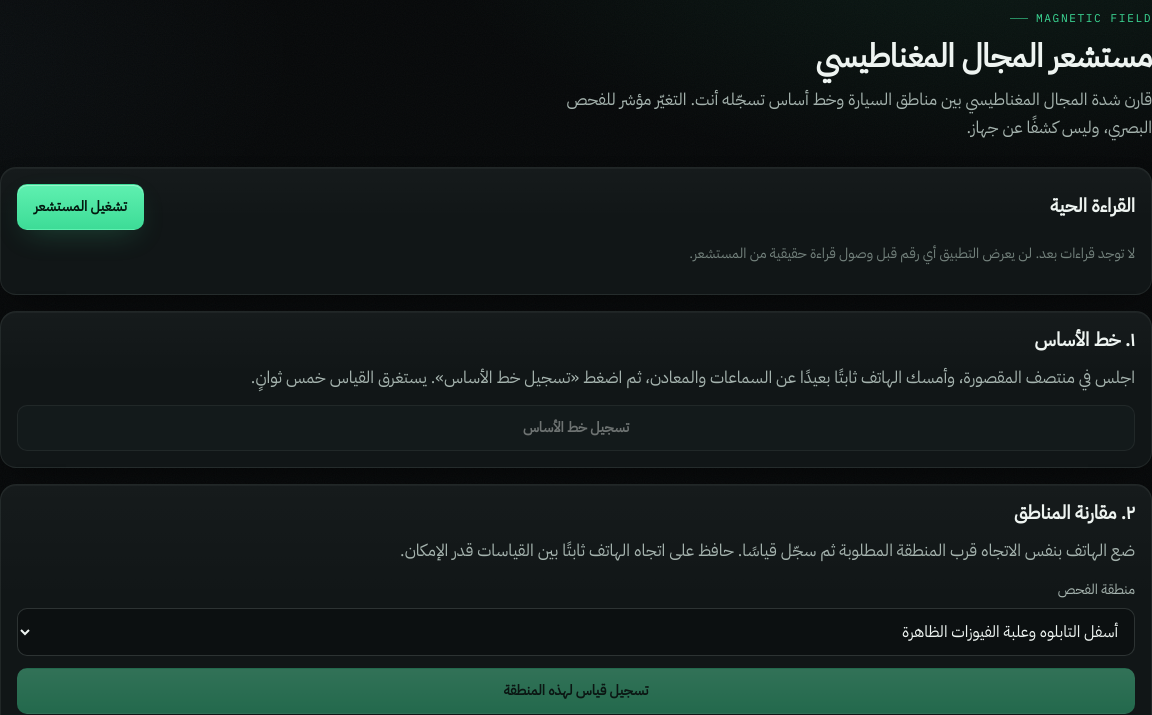
SensorView › shows a clear message when permission is denied
This screenshot has width=1152, height=715.
Click the button "تشغيل المستشعر": x=80, y=207 [17,184,144,230]
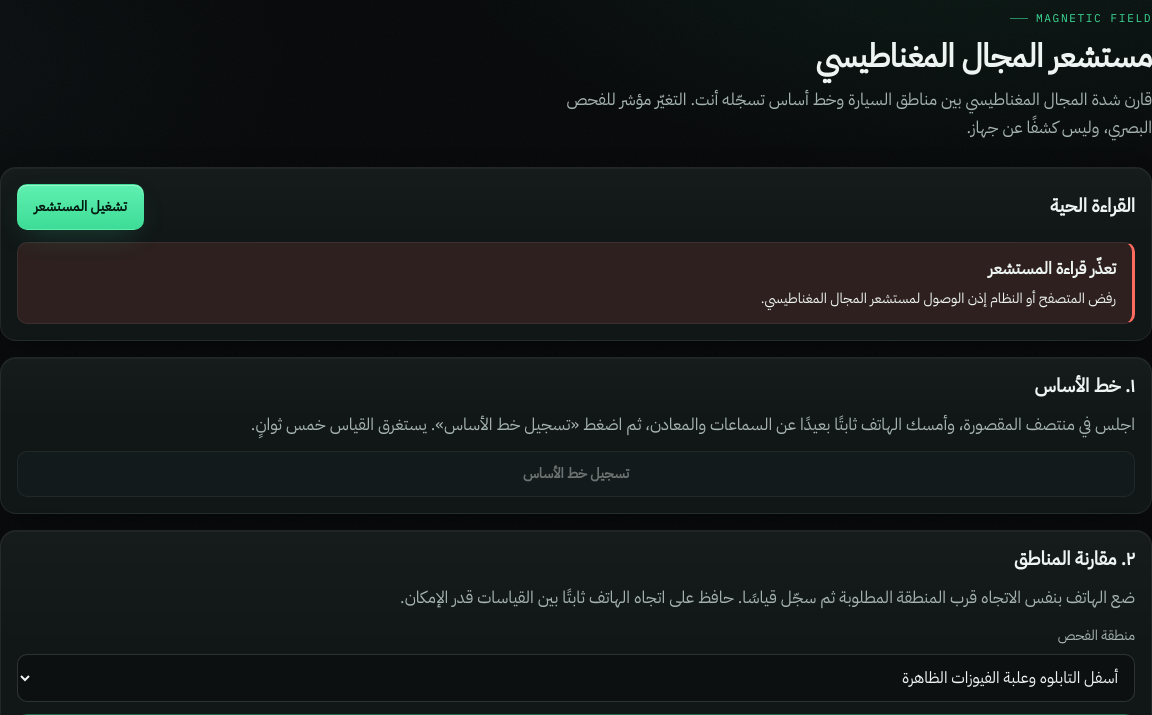
Now the message shows "رفض المتصفح أو النظام إذن", box [761,288,1116,309]
